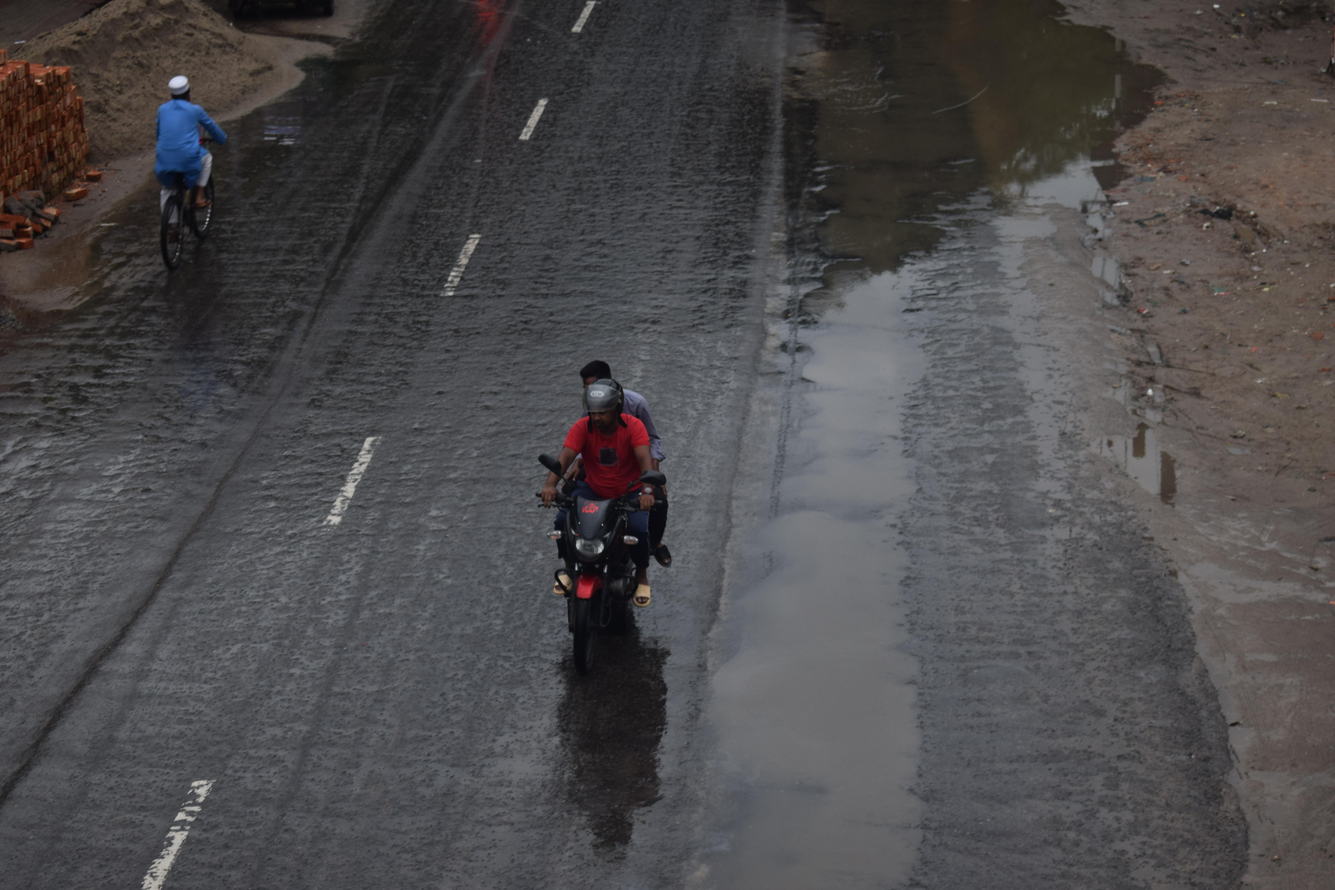Bike: (506, 330, 704, 708)
